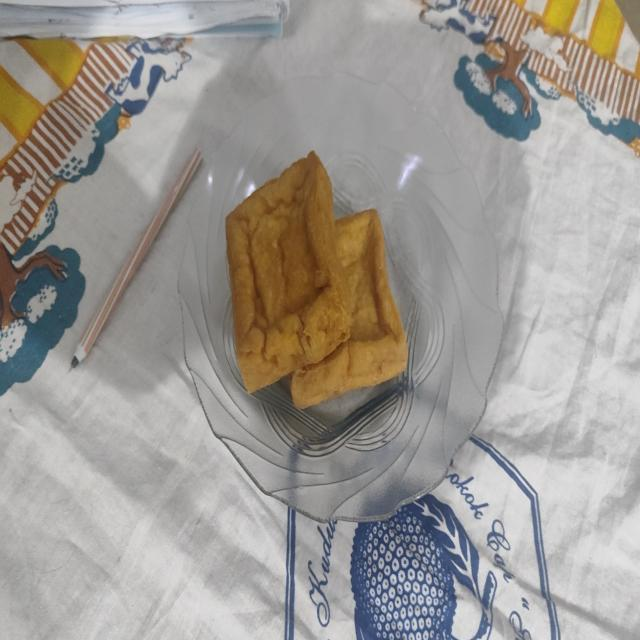tahu_goreng: (226, 152, 352, 392), (290, 210, 408, 408)
